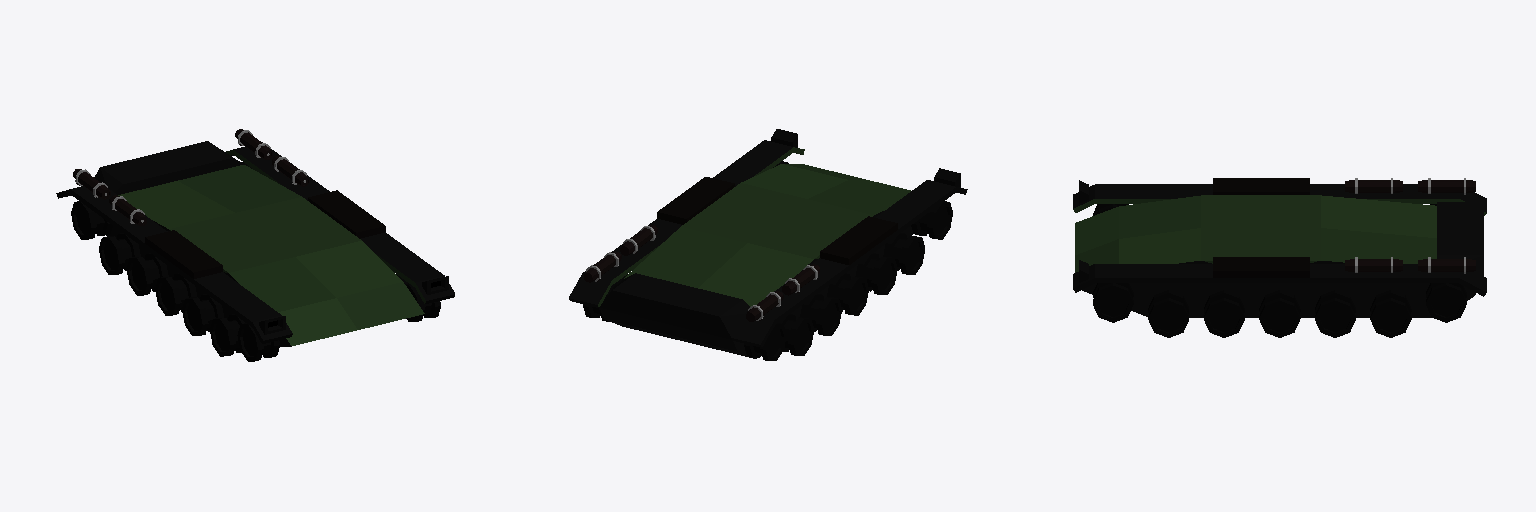
File: MyatezL10-hull.obj
3 renders of one model, left to right at view 1: azimuth 30°, elevation 25°; view 2: azimuth 150°, elevation 25°; view 3: azimuth 270°, elevation 25°, orthographic.
Visible parts, largest first — view 1: Cube.002_Cube.003, Cylinder.016_Cylinder.017, Cylinder.019_Cylinder.020, Cylinder.015_Cylinder.016, Cylinder.017_Cylinder.018, Cylinder.018_Cylinder.019, Cylinder.021_Cylinder.022, Cylinder.020_Cylinder.021, Cylinder.006, Cylinder.007, Cylinder.005, Cylinder.025_Cylinder.026; view 2: Cube.002_Cube.003, Cylinder.019_Cylinder.020, Cylinder.018_Cylinder.019, Cylinder.016_Cylinder.017, Cylinder.017_Cylinder.018, Cylinder.015_Cylinder.016, Cylinder.020_Cylinder.021, Cylinder.021_Cylinder.022, Cylinder.007, Cylinder.006, Cylinder.005, Cylinder.025_Cylinder.026; view 3: Cube.002_Cube.003, Cylinder.011_Cylinder.012, Cylinder.012_Cylinder.013, Cylinder.010_Cylinder.011, Cylinder.014_Cylinder.015, Cylinder.013_Cylinder.014, Cylinder.008, Cylinder.009_Cylinder.010, Cylinder.007, Cylinder.006, Cylinder.025_Cylinder.026, Cylinder.005.
Boxes of the visible parts, x1,y1,x2,y2 form: Cube.002_Cube.003: [56, 141, 454, 346]; Cylinder.016_Cylinder.017: [126, 253, 168, 295]; Cylinder.019_Cylinder.020: [182, 294, 223, 335]; Cylinder.015_Cylinder.016: [99, 233, 140, 274]; Cylinder.017_Cylinder.018: [155, 273, 196, 315]; Cylinder.018_Cylinder.019: [210, 314, 244, 356]; Cylinder.021_Cylinder.022: [71, 201, 112, 239]; Cylinder.020_Cylinder.021: [237, 323, 279, 361]; Cylinder.006: [73, 169, 110, 199]; Cylinder.007: [235, 129, 272, 159]; Cylinder.005: [272, 156, 309, 186]; Cylinder.025_Cylinder.026: [109, 195, 146, 225]; Cube.002_Cube.003: [569, 129, 967, 358]; Cylinder.019_Cylinder.020: [855, 253, 897, 294]; Cylinder.018_Cylinder.019: [883, 233, 924, 274]; Cylinder.016_Cylinder.017: [800, 294, 841, 335]; Cylinder.017_Cylinder.018: [827, 273, 868, 315]; Cylinder.015_Cylinder.016: [779, 314, 813, 355]; Cylinder.020_Cylinder.021: [911, 201, 952, 239]; Cylinder.021_Cylinder.022: [744, 323, 786, 360]; Cylinder.007: [584, 251, 621, 282]; Cylinder.006: [746, 291, 783, 321]; Cylinder.005: [620, 225, 657, 255]; Cylinder.025_Cylinder.026: [782, 264, 819, 295]; Cube.002_Cube.003: [1073, 178, 1486, 317]; Cylinder.011_Cylinder.012: [1370, 290, 1411, 337]; Cylinder.012_Cylinder.013: [1259, 290, 1300, 337]; Cylinder.010_Cylinder.011: [1315, 290, 1355, 337]; Cylinder.014_Cylinder.015: [1148, 290, 1188, 337]; Cylinder.013_Cylinder.014: [1204, 290, 1244, 337]; Cylinder.008: [1093, 283, 1133, 322]; Cylinder.009_Cylinder.010: [1426, 283, 1466, 322]; Cylinder.007: [1418, 257, 1475, 273]; Cylinder.006: [1418, 178, 1475, 194]; Cylinder.025_Cylinder.026: [1345, 178, 1402, 193]; Cylinder.005: [1345, 257, 1402, 272].
Size of the model in its own units: 2.48 by 0.9265 by 4.64.